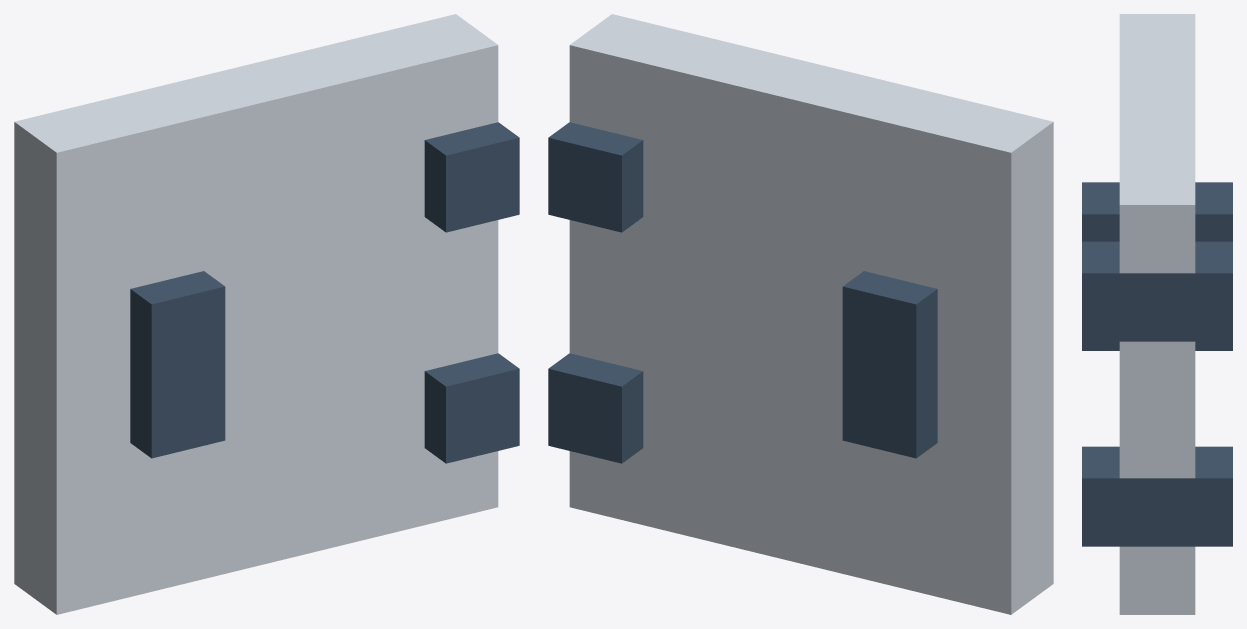
Rendered from stone-gate.obj.
3 views of the same model, side by side, from view 1: azimuth 30°, elevation 25°; view 2: azimuth 150°, elevation 25°; view 3: azimuth 270°, elevation 25° (orthographic). The views are drawn at different scales.
Bounding box in the file's own units: 6 × 6 × 2.
Materials: 1 (1 with a texture image).
